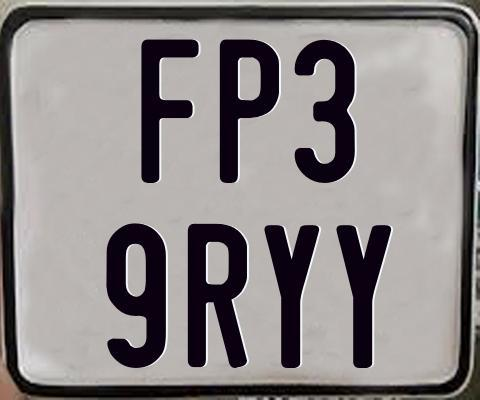3: (293, 37, 356, 183)
9: (103, 223, 164, 370)
F: (138, 36, 199, 185)
P: (220, 37, 281, 183)
R: (187, 221, 246, 371)
Y: (261, 224, 321, 369), (333, 225, 389, 370)
